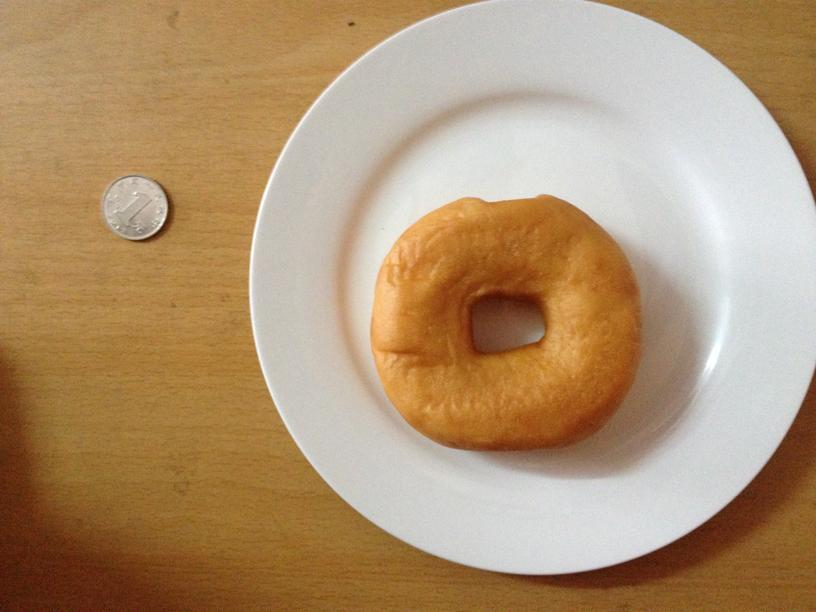coin: (101, 173, 169, 242)
doughnut: (367, 191, 642, 451)
